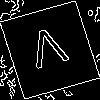V: (24, 25, 73, 79)
